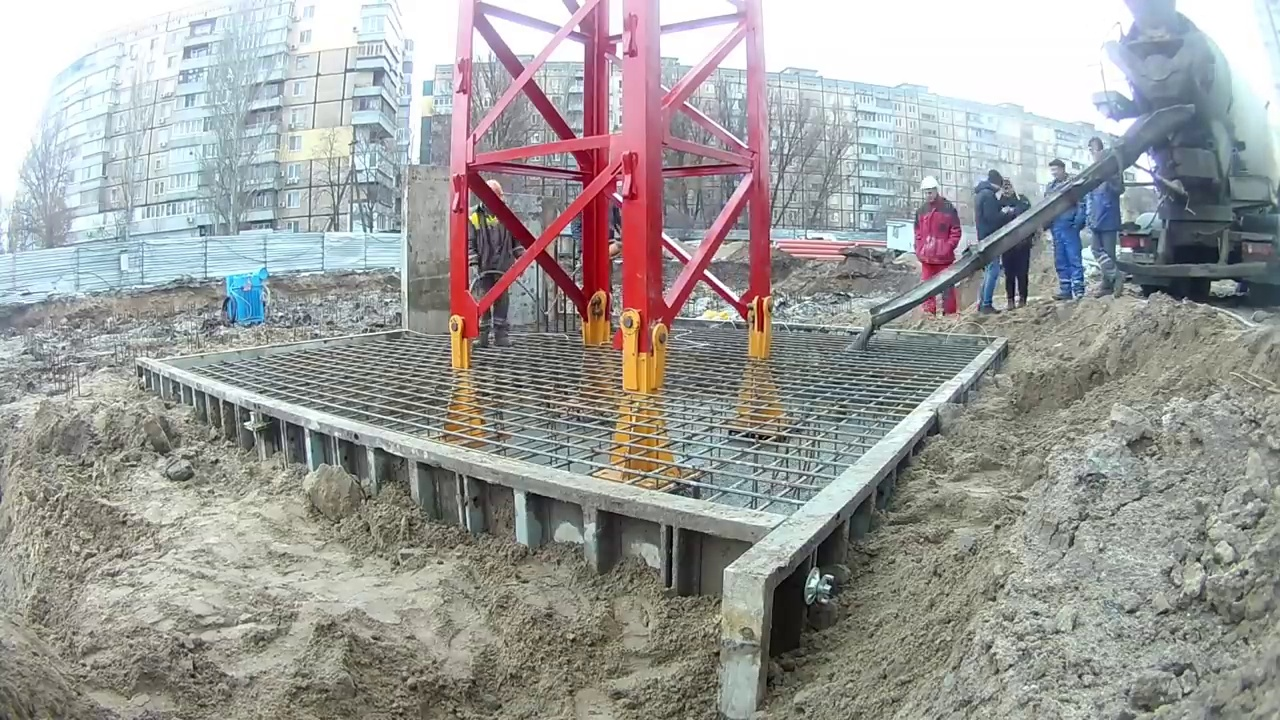helmet: (481, 178, 504, 200), (920, 175, 940, 190)
helmet-off: (1086, 135, 1107, 165), (1046, 160, 1067, 185), (986, 170, 1003, 199), (999, 176, 1013, 197)
helmet-on: (479, 178, 506, 217), (920, 175, 941, 204)
person: (468, 177, 522, 354), (911, 175, 963, 322), (1081, 135, 1130, 279), (1045, 160, 1089, 309), (972, 171, 1012, 316), (1000, 176, 1034, 310)
